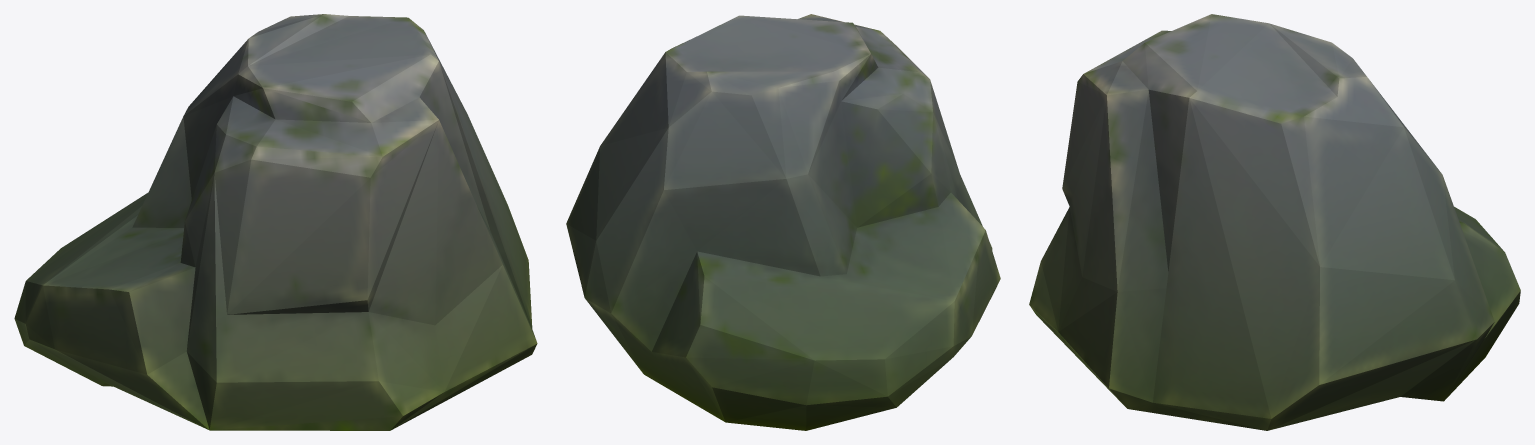
File: Rock_Medium_1.gltf
3 views of the same model, side by side, from view 1: azimuth 30°, elevation 25°; view 2: azimuth 150°, elevation 25°; view 3: azimuth 270°, elevation 25° (orthographic). The views are drawn at different scales.
Visible parts, largest first — view 1: Rock_Medium_1; view 2: Rock_Medium_1; view 3: Rock_Medium_1.
Part boxes in pixels (box(x1,y1,x2,y2)): Rock_Medium_1: box(14, 14, 537, 430); Rock_Medium_1: box(566, 14, 1000, 430); Rock_Medium_1: box(1029, 14, 1520, 430).
Size of the model in its own units: 3.23 by 2.22 by 2.99.
1 material, 1 textured.
